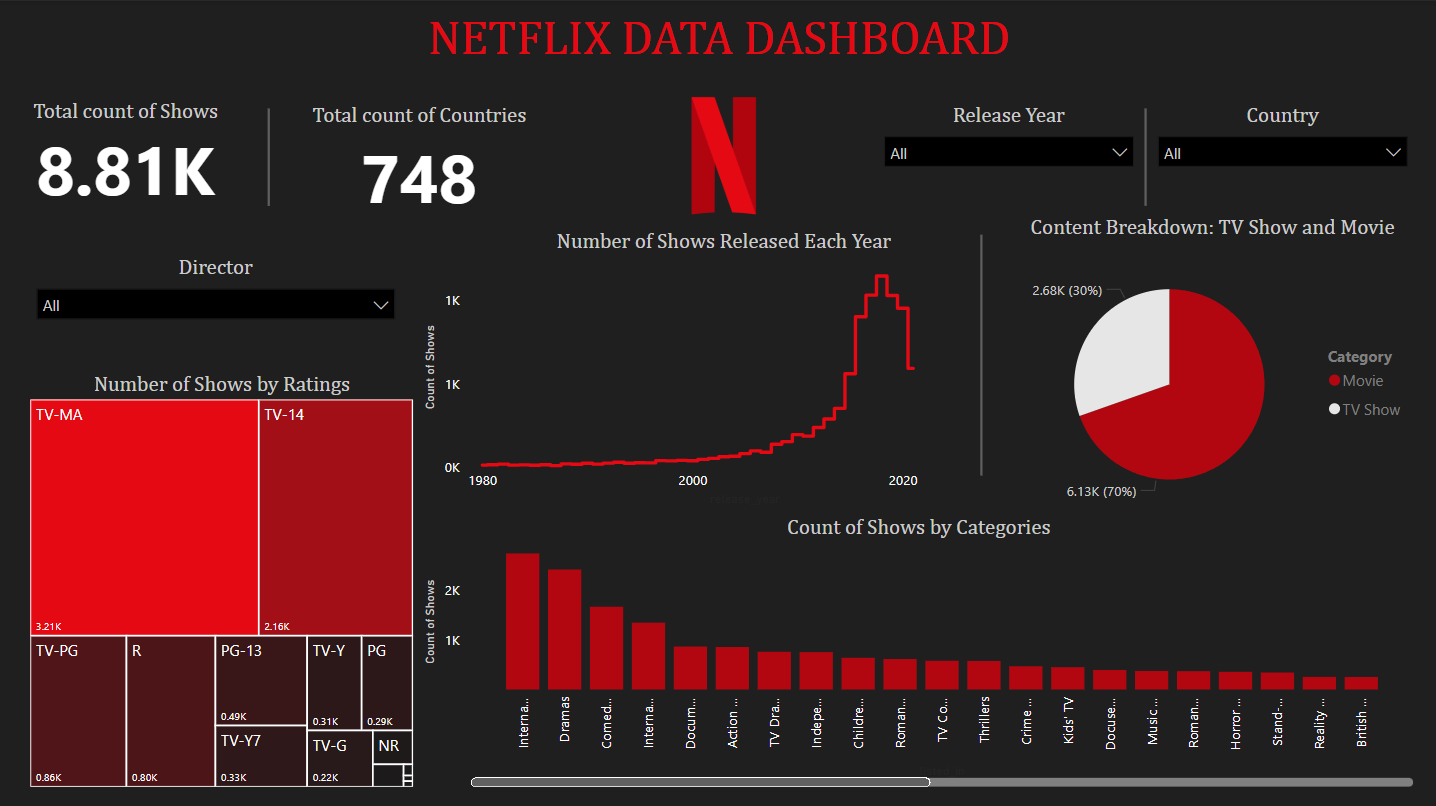

The dashboard page shown, as its layout file describes it:
{"tool":"powerbi","page":{"name":"Page 1","canvas":[1280,720],"ordinal":0},"visuals":[{"type":"lineChart","title":"Number of Shows Released Each Year","fields":{"Y":["CountNonNull(netflix_titles.show_id)"],"Category":["netflix_titles.release_year"]},"box":[373.2,199,543.4,255.2],"z":0},{"type":"pieChart","title":"Content Breakdown: TV Show and Movie","fields":{"Y":["CountNonNull(netflix_titles.show_id)"],"Category":["netflix_titles.type"]},"box":[896.1,187,367.3,285],"z":1000},{"type":"slicer","title":"Country","fields":{"Values":["netflix_titles.country"]},"box":[1020.8,86.8,242.7,85.7],"z":2000},{"type":"slicer","title":"Release Year","fields":{"Values":["netflix_titles.release_year"]},"box":[777,86.8,242.7,100.2],"z":3000},{"type":"columnChart","title":"Count of Shows by Categories","fields":{"Category":["Category split.listed_in"],"Y":["CountNonNull(Category split.show_id)"]},"box":[372.9,454.2,890.5,250.5],"z":4000},{"type":"treemap","title":"Number of Shows by Ratings","fields":{"Group":["netflix_titles.rating"],"Values":["CountNonNull(netflix_titles.show_id)"]},"box":[22.3,326.2,350.7,378.5],"z":4002},{"type":"textbox","box":[0,0,1280.3,83.7],"z":4003},{"type":"card","title":"Total count of Shows","fields":{"Values":["CountNonNull(netflix_titles.show_id)"]},"box":[0,83.5,223.7,103.5],"z":4004},{"type":"card","title":"Total count of Countries","fields":{"Values":["Count(netflix_titles.country)"]},"box":[252.7,86.8,241.6,110.2],"z":4005},{"type":"slicer","title":"Director","fields":{"Values":["netflix_titles.director"]},"box":[22.3,222.6,339.5,74.6],"z":4006},{"type":"shape","box":[867.2,208.6,13.7,214.1],"z":4008},{"type":"shape","box":[223.7,95.7,31.2,86.8],"z":4009},{"type":"shape","box":[1003,95.7,34.5,86.8],"z":4010},{"type":"image","box":[543.2,34.5,202.6,205.9],"z":4011}]}

Visuals, with their boxes in screenshot pixels (x1, y1, x2, y2), scaled from the page's 1280x720 canvas onto the 1436x806 screenshot:
"Number of Shows Released Each Year" lineChart: pyautogui.locateOnScreen(419, 223, 1028, 508)
"Content Breakdown: TV Show and Movie" pieChart: pyautogui.locateOnScreen(1005, 209, 1417, 528)
"Country" slicer: pyautogui.locateOnScreen(1145, 97, 1417, 193)
"Release Year" slicer: pyautogui.locateOnScreen(872, 97, 1144, 209)
"Count of Shows by Categories" columnChart: pyautogui.locateOnScreen(418, 508, 1417, 789)
"Number of Shows by Ratings" treemap: pyautogui.locateOnScreen(25, 365, 418, 789)
textbox: pyautogui.locateOnScreen(0, 0, 1435, 94)
"Total count of Shows" card: pyautogui.locateOnScreen(0, 93, 251, 209)
"Total count of Countries" card: pyautogui.locateOnScreen(283, 97, 555, 221)
"Director" slicer: pyautogui.locateOnScreen(25, 249, 406, 333)
shape: pyautogui.locateOnScreen(973, 234, 988, 473)
shape: pyautogui.locateOnScreen(251, 107, 286, 204)
shape: pyautogui.locateOnScreen(1125, 107, 1164, 204)
image: pyautogui.locateOnScreen(609, 39, 837, 269)
